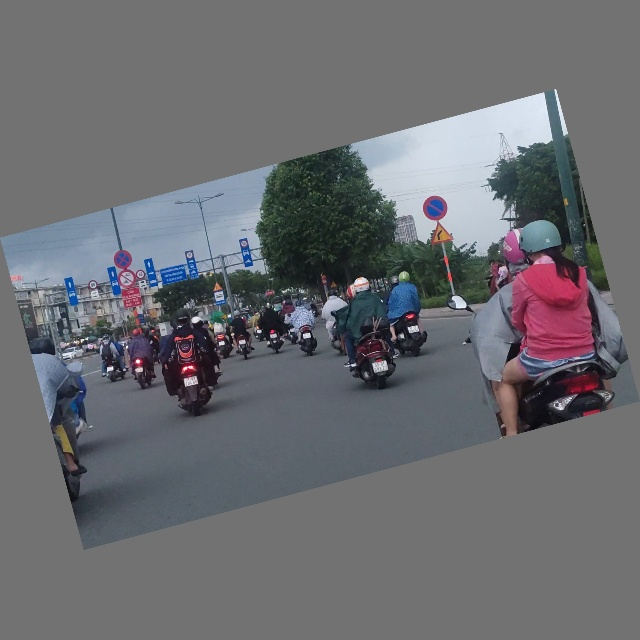I.434a: (213, 290, 227, 307)
P.111: (116, 268, 139, 291)
P.127*50: (185, 251, 194, 261), (239, 240, 248, 249)
P.127*60: (87, 279, 99, 292)
P.127*80: (135, 269, 146, 281)
P.130: (111, 248, 134, 272)
P.131a: (419, 192, 451, 225)
S.505a*Xe tai va cong: (137, 280, 147, 290)
W.201b: (426, 220, 454, 247), (209, 280, 224, 294)
